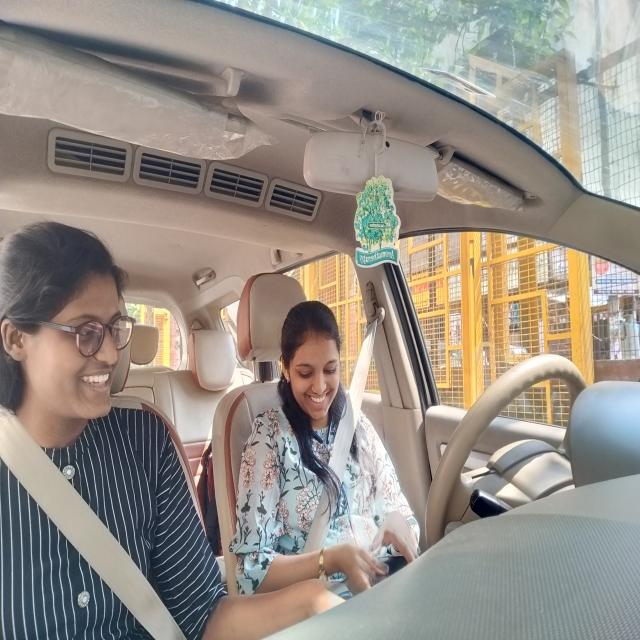drowsy: (263, 279, 367, 476)
person: (0, 206, 139, 454)
